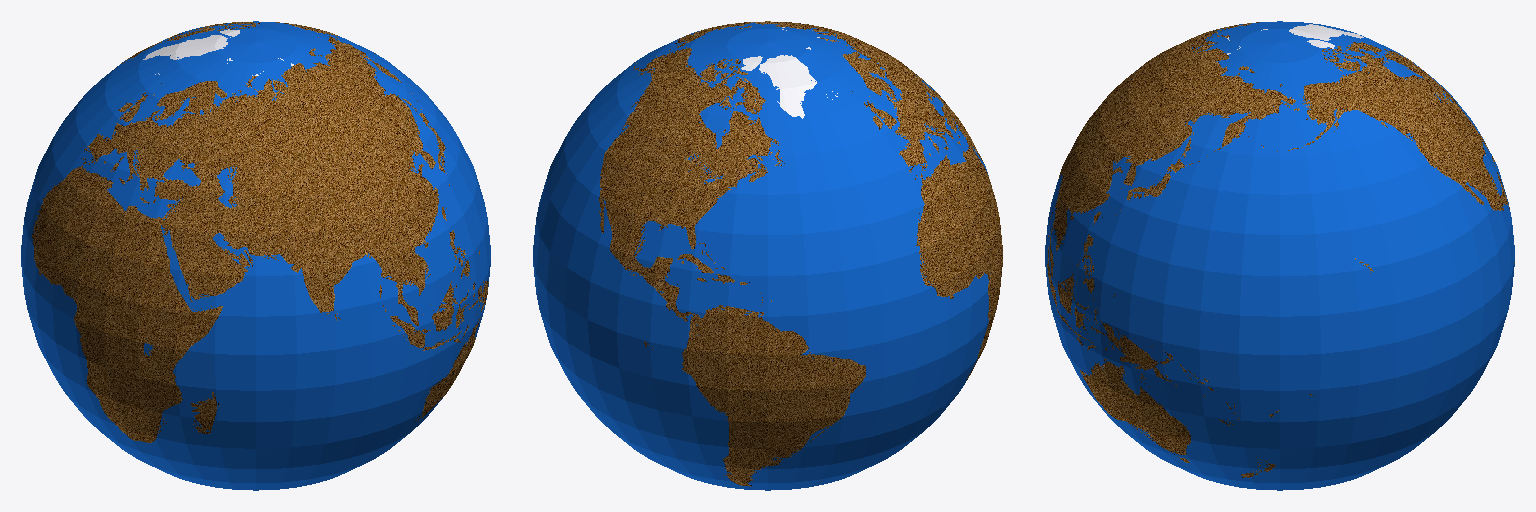
The picture shows the model from 3 angles: view 1: azimuth 30°, elevation 25°; view 2: azimuth 150°, elevation 25°; view 3: azimuth 270°, elevation 25°; orthographic projection.
Visible parts, largest first — view 1: Mesh1 earth1 Model; view 2: Mesh1 earth1 Model; view 3: Mesh1 earth1 Model.
Part boxes in pixels (bbox=[...]): Mesh1 earth1 Model: bbox=[21, 21, 490, 490]; Mesh1 earth1 Model: bbox=[533, 21, 1002, 490]; Mesh1 earth1 Model: bbox=[1045, 21, 1514, 490].
Size of the model in its own units: 12800000 by 12800000 by 12800000.
7 materials, 1 textured.